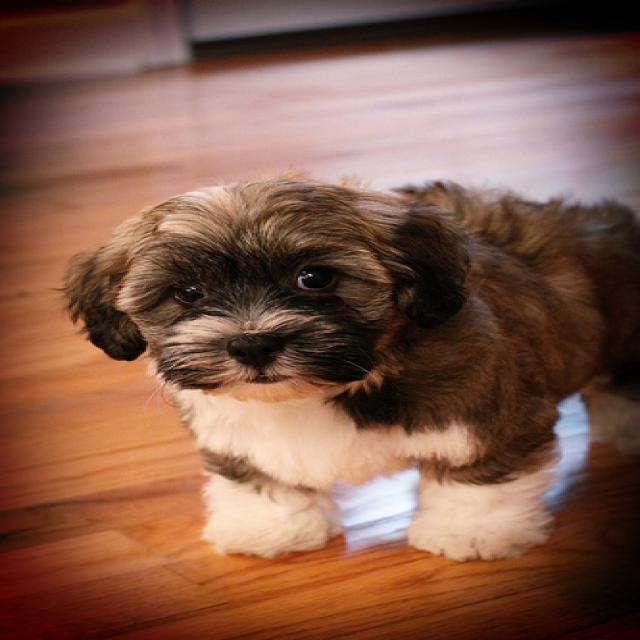dog-havanese: (50, 170, 636, 570)
